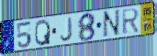5: (16, 20, 33, 50)
8: (77, 11, 97, 43)
J: (59, 16, 73, 43)
N: (101, 8, 121, 39)
Q: (35, 18, 52, 47)
R: (121, 7, 141, 36)
